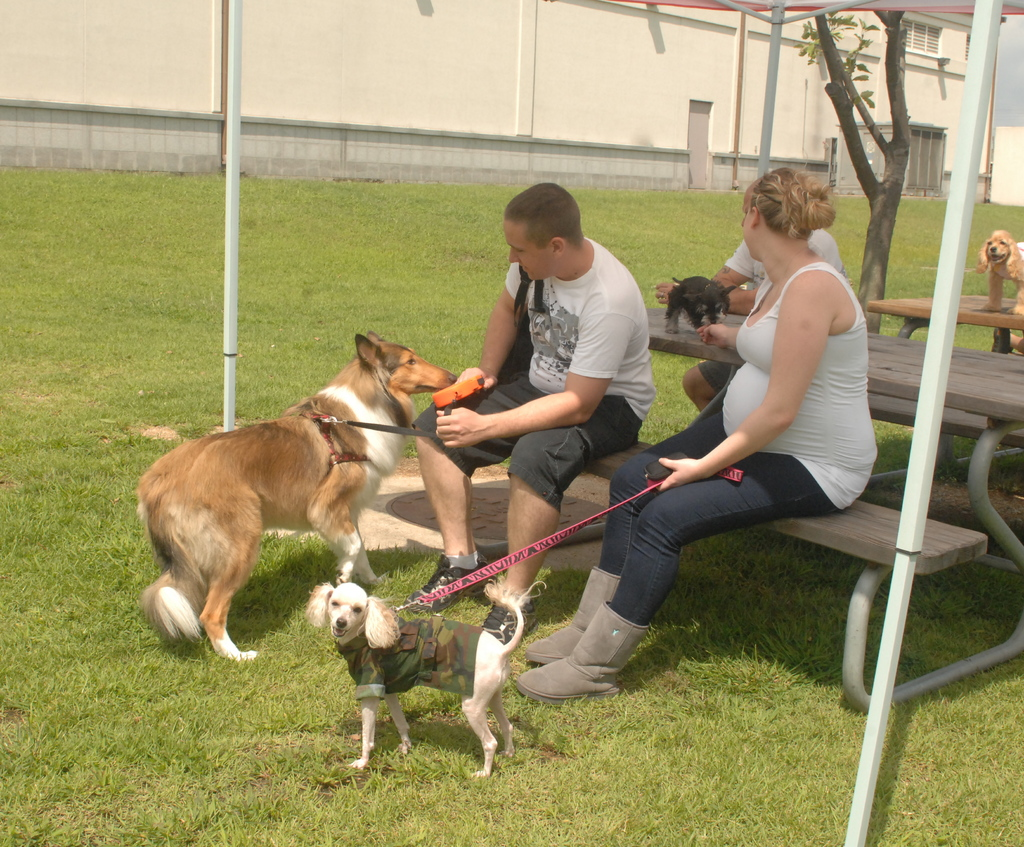Person: (403, 179, 658, 659), (656, 175, 847, 415)
